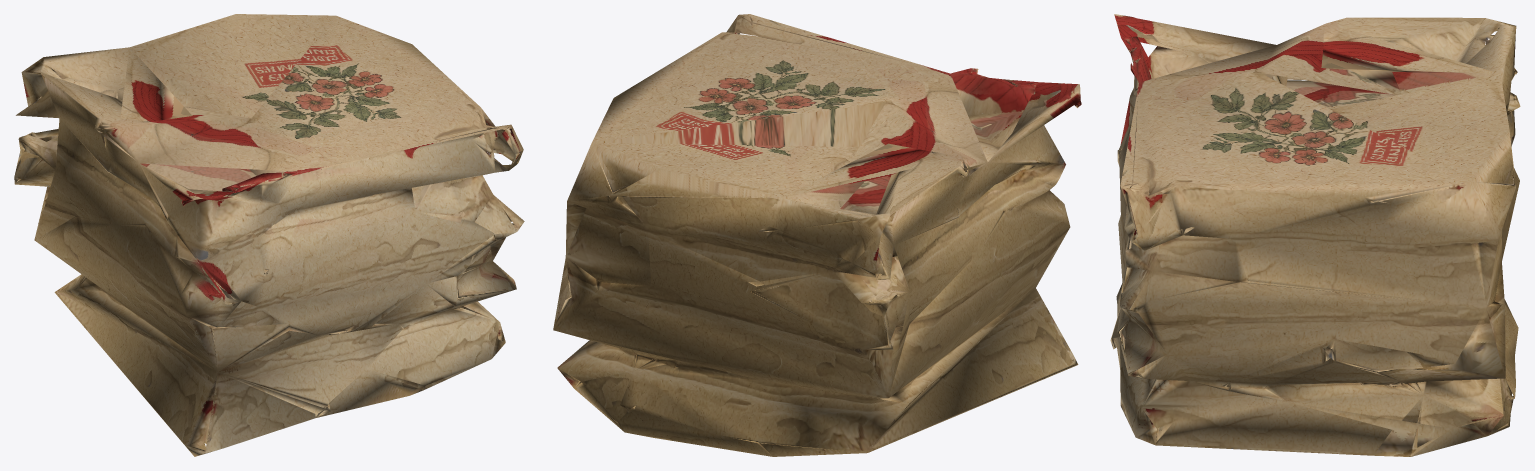
File: PR_Yakcheop.fbx
3 views of the same model, side by side, from view 1: azimuth 30°, elevation 25°; view 2: azimuth 150°, elevation 25°; view 3: azimuth 270°, elevation 25° (orthographic). The views are drawn at different scales.
Visible parts, largest first — view 1: texture_mapping; view 2: texture_mapping; view 3: texture_mapping.
Boxes of the visible parts, <box> form: texture_mapping: <box>14,14,524,456</box>; texture_mapping: <box>553,14,1081,456</box>; texture_mapping: <box>1110,14,1520,456</box>.
Bounding box in the file's own units: 0.9438 × 0.8918 × 0.693.
1 material, 1 textured.
